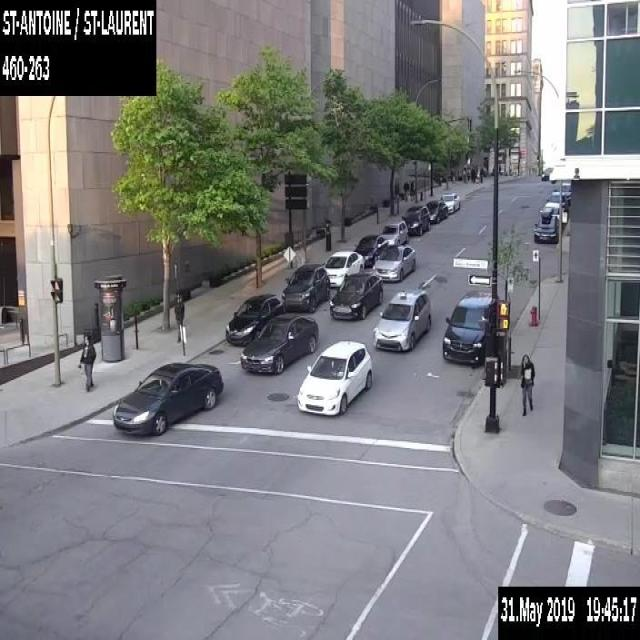construction: (283, 245, 295, 279)
pedestrian: (519, 352, 535, 416), (78, 334, 96, 389), (172, 285, 184, 344), (402, 179, 408, 200), (410, 180, 414, 200), (470, 166, 475, 181), (479, 165, 483, 182), (466, 168, 469, 180), (498, 162, 500, 174)
vehicle: (112, 359, 224, 436), (296, 339, 374, 416), (240, 312, 318, 373), (440, 288, 491, 365), (372, 288, 431, 351), (225, 292, 283, 344), (329, 272, 382, 319), (281, 262, 329, 311), (372, 243, 414, 280), (322, 249, 363, 286), (353, 233, 388, 267), (401, 203, 430, 234), (533, 207, 558, 242), (379, 219, 408, 245), (539, 201, 566, 221), (544, 190, 568, 212), (425, 199, 447, 222), (440, 192, 460, 213), (559, 179, 570, 201), (540, 165, 553, 180)
